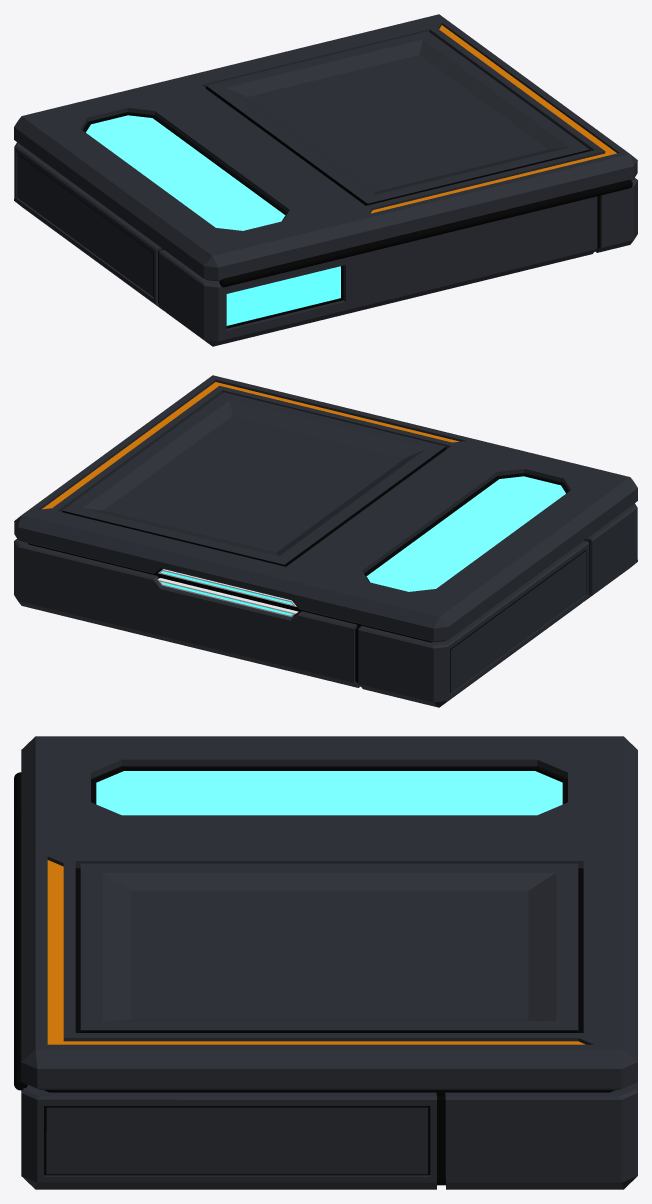
Rendered from data_folder.glb.
The picture shows the model from 3 angles, top to bottom: view 1: azimuth 30°, elevation 25°; view 2: azimuth 150°, elevation 25°; view 3: azimuth 270°, elevation 25°; orthographic projection. The views are drawn at different scales.
Parts seen in each view (by area): view 1: SM_Intelligence_Data_Folder_Cover, SM_Intelligence_Data_Folder_Base; view 2: SM_Intelligence_Data_Folder_Cover, SM_Intelligence_Data_Folder_Base; view 3: SM_Intelligence_Data_Folder_Cover, SM_Intelligence_Data_Folder_Base.
Part boxes in pixels (bbox=[...]): SM_Intelligence_Data_Folder_Cover: bbox=[14, 14, 637, 287]; SM_Intelligence_Data_Folder_Base: bbox=[14, 142, 637, 346]; SM_Intelligence_Data_Folder_Cover: bbox=[14, 375, 637, 642]; SM_Intelligence_Data_Folder_Base: bbox=[14, 503, 637, 707]; SM_Intelligence_Data_Folder_Cover: bbox=[14, 736, 637, 1092]; SM_Intelligence_Data_Folder_Base: bbox=[14, 808, 637, 1189].
Bounding box in the file's own units: 0.2501 × 0.05 × 0.2023.
